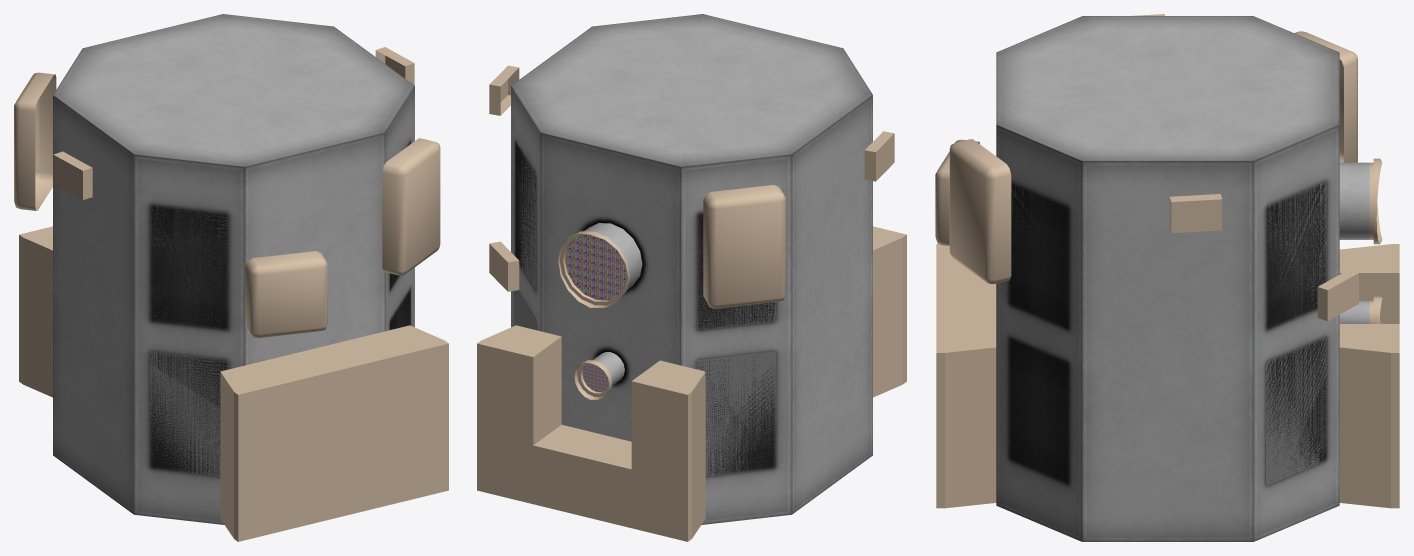
The model's file is kvant 2 interior.obj.
3 views of the same model, side by side, from view 1: azimuth 30°, elevation 25°; view 2: azimuth 150°, elevation 25°; view 3: azimuth 270°, elevation 25° (orthographic). The views are drawn at different scales.
Parts seen in each view (by area): view 1: i2, mask; view 2: i2, mask, iw1; view 3: i2, mask.
Boxes of the visible parts, x1,y1,x2,y2 form: i2: (53,14,414,524); mask: (14,47,448,541); i2: (511,14,872,524); mask: (477,65,906,541); iw1: (565,235,626,391); i2: (996,16,1369,541); mask: (935,14,1399,508).
Size of the model in its own units: 1.3 by 1.23 by 1.35.
Materials: 3 (2 with a texture image).
